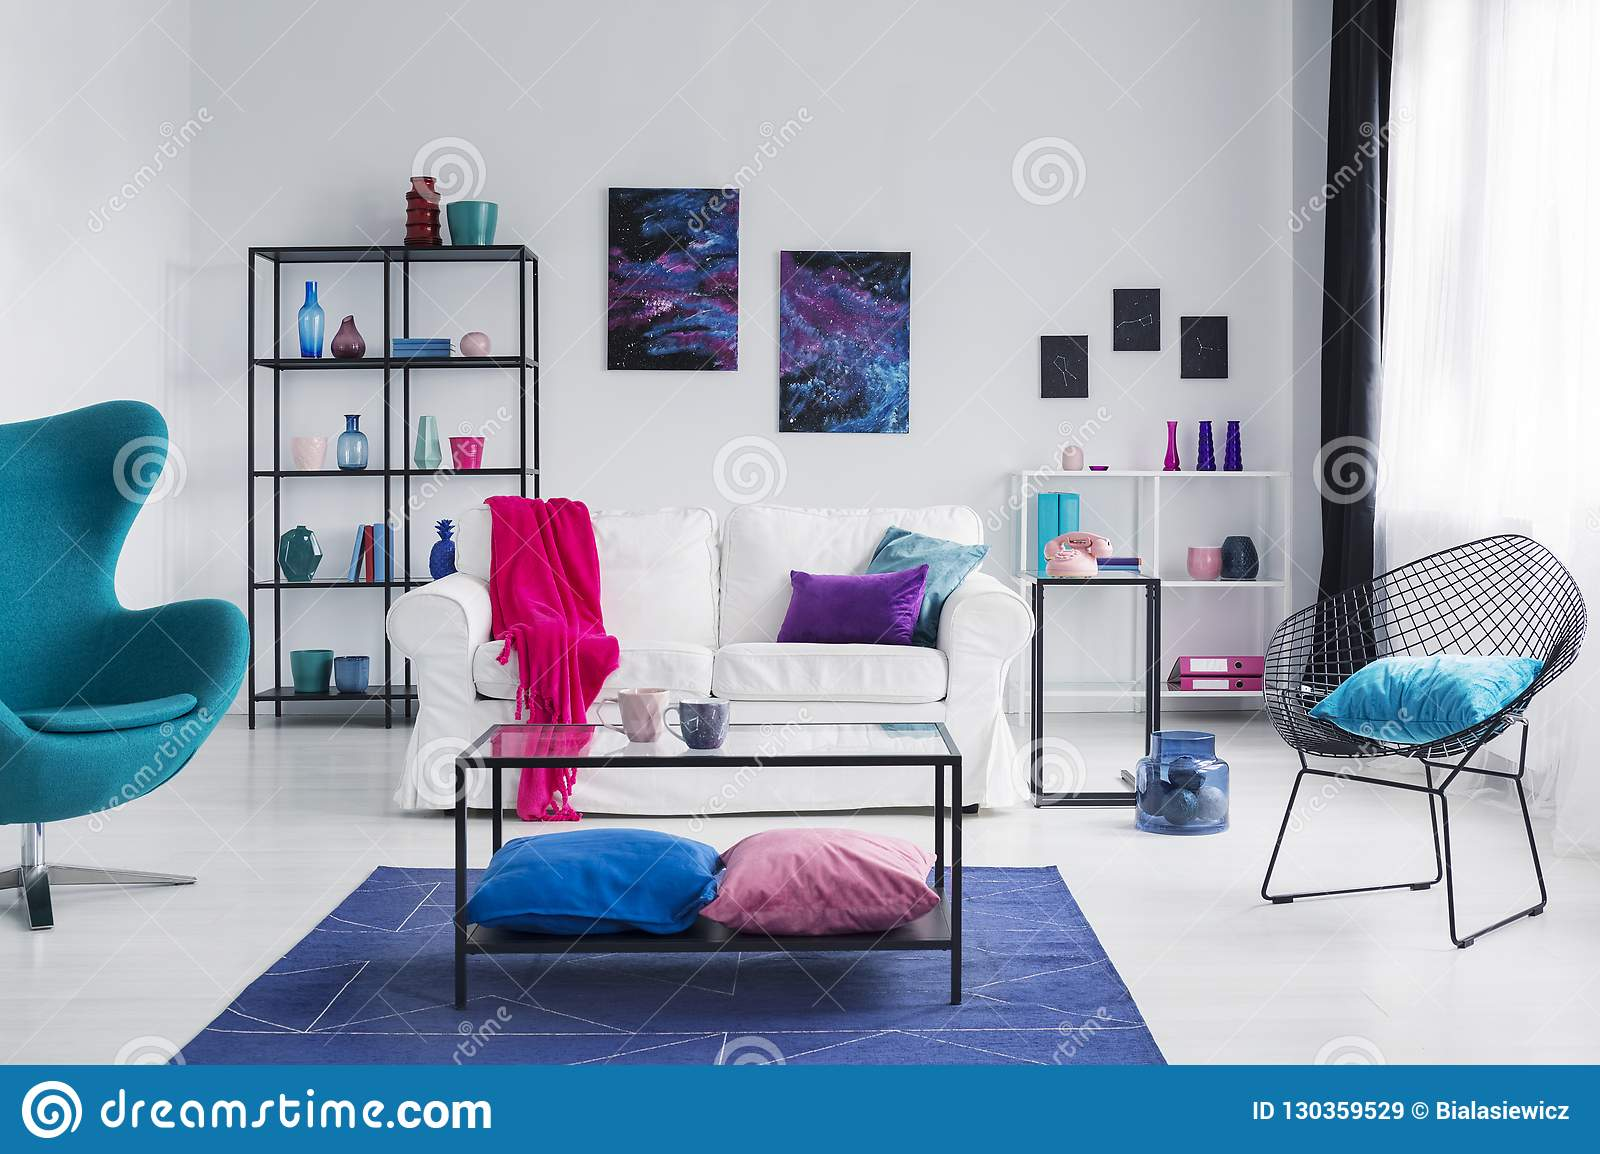biru: (4, 417, 235, 819), (480, 834, 706, 930), (1330, 655, 1529, 744), (429, 518, 455, 579), (1196, 419, 1215, 470), (1225, 420, 1242, 470)
coklat: (402, 176, 441, 243)
hijau: (448, 199, 497, 248), (291, 647, 332, 694)
pink: (493, 493, 616, 682), (1042, 530, 1111, 583), (1185, 547, 1221, 579)
putih: (456, 506, 976, 724)
ungu: (722, 835, 925, 929), (793, 571, 920, 640), (1161, 419, 1184, 470)
